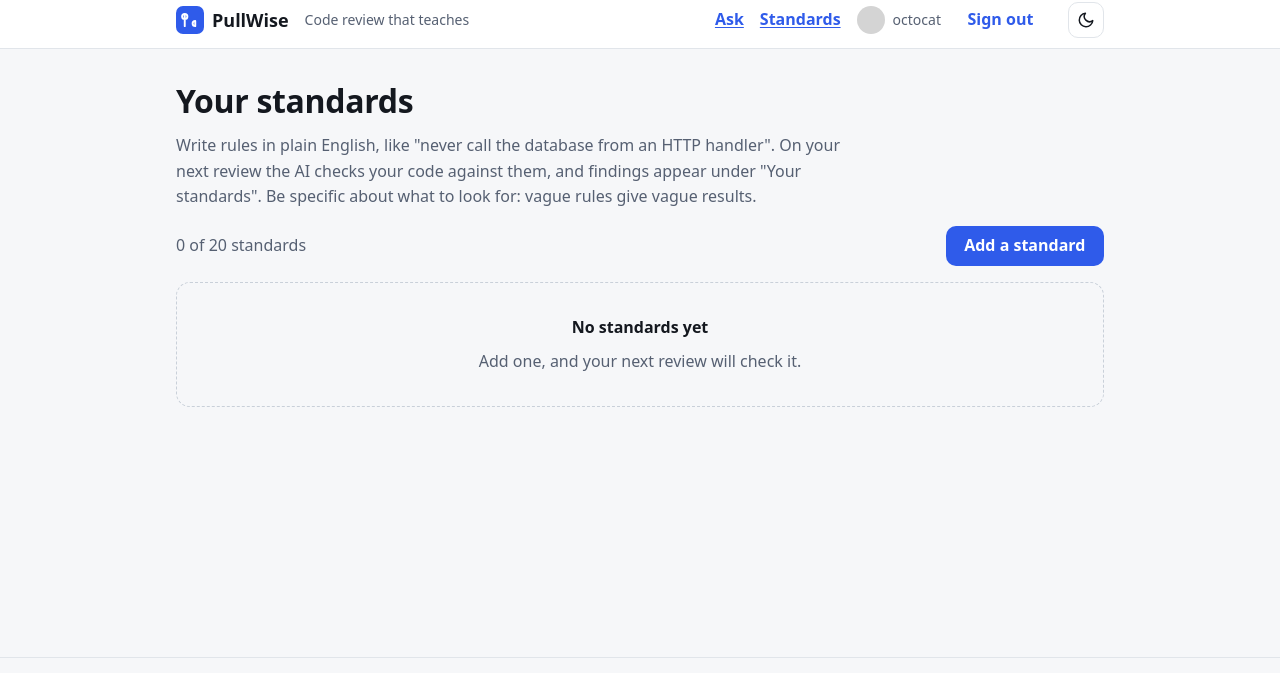
Scenario: Standards page › starts empty and adds a standard
This screenshot has width=1280, height=673.
Expected: the text "No standards yet" is shown, [572,315,708,341]
Click the button "Add a standard" at (1025, 246), box [946,226,1104,266]
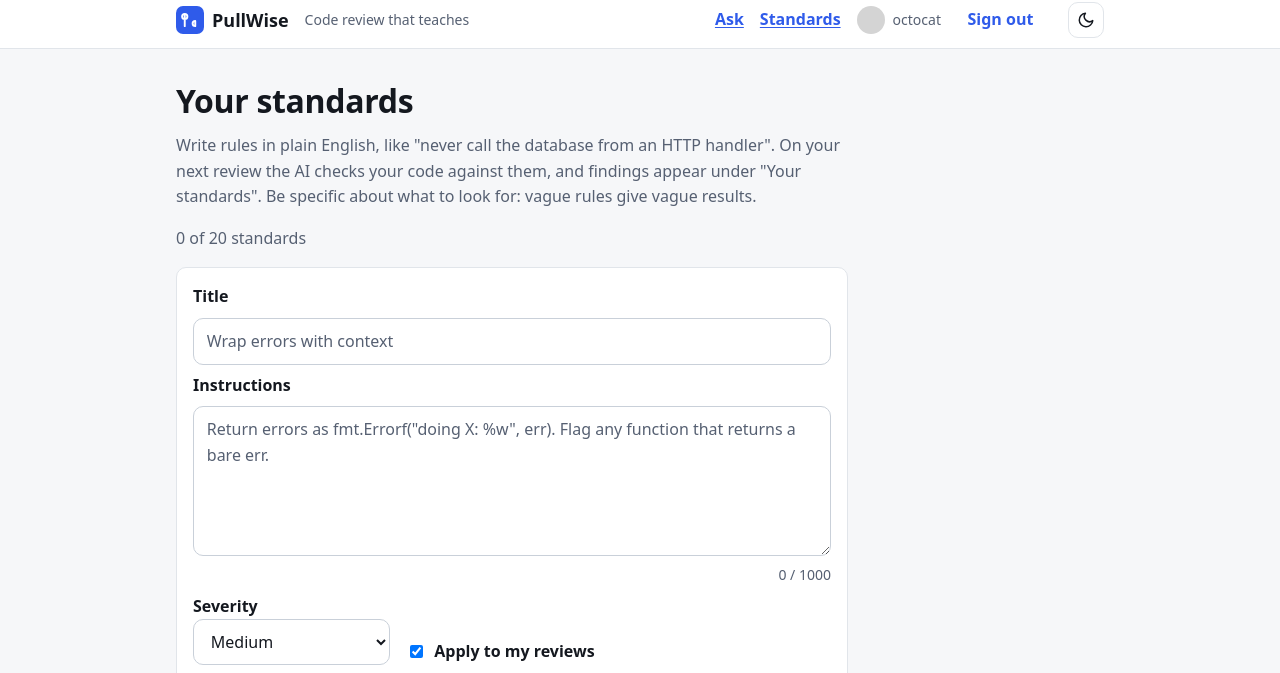
Type "Wrap errors" into the field labelled "Title" at (512, 341), box [193,318,831,365]
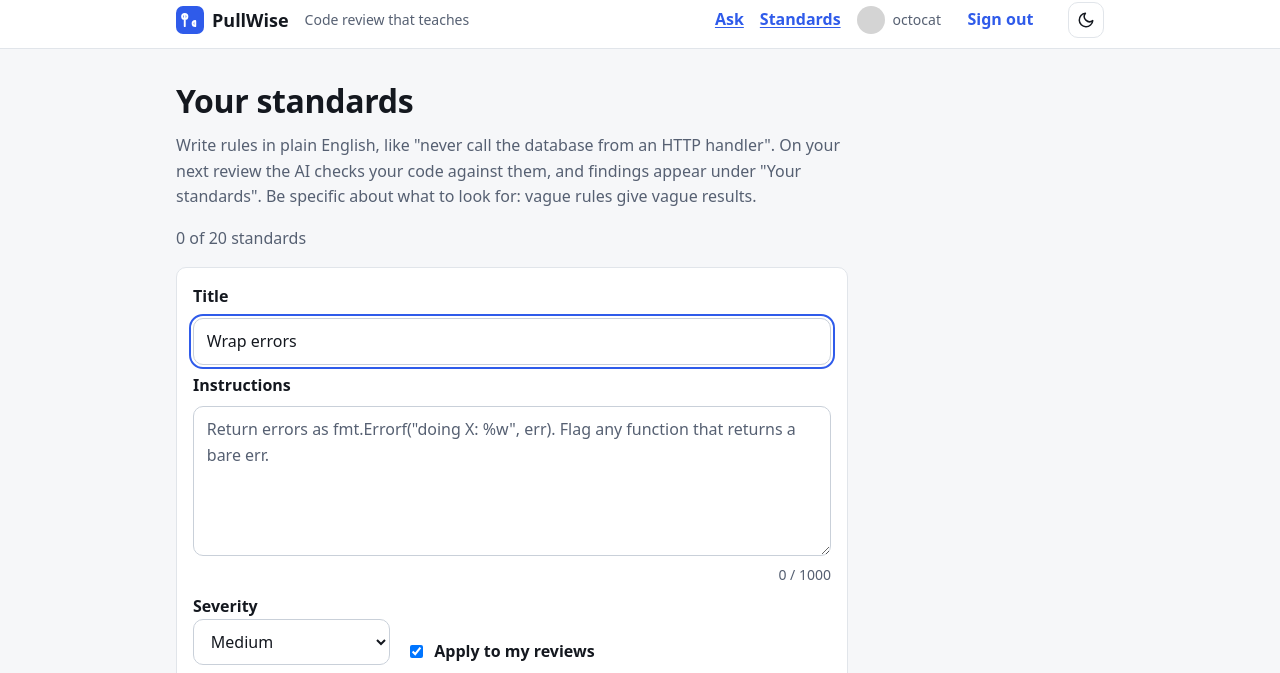
Type "Return errors with fmt.Errorf and %w." into the text box labelled "Instructions" at (512, 481), box [193,406,831,556]
(page scrolled)
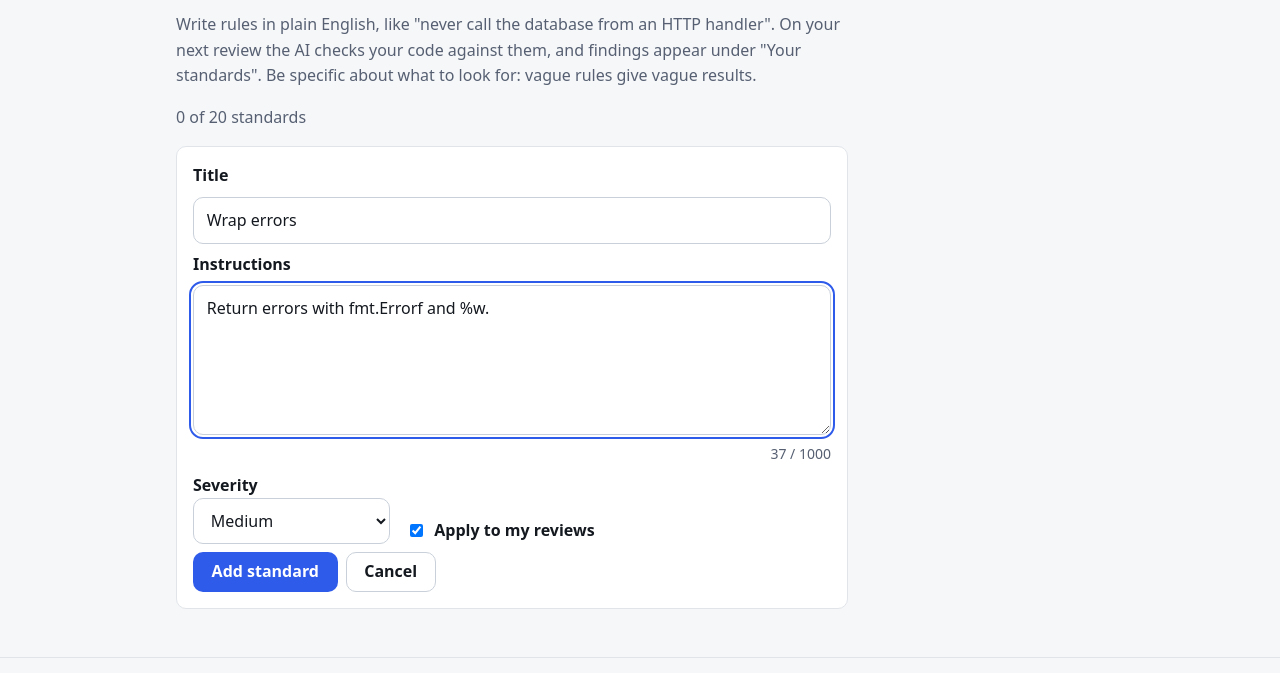
Click the button "Add standard" at (265, 572), box [193,552,338,592]
(page scrolled)
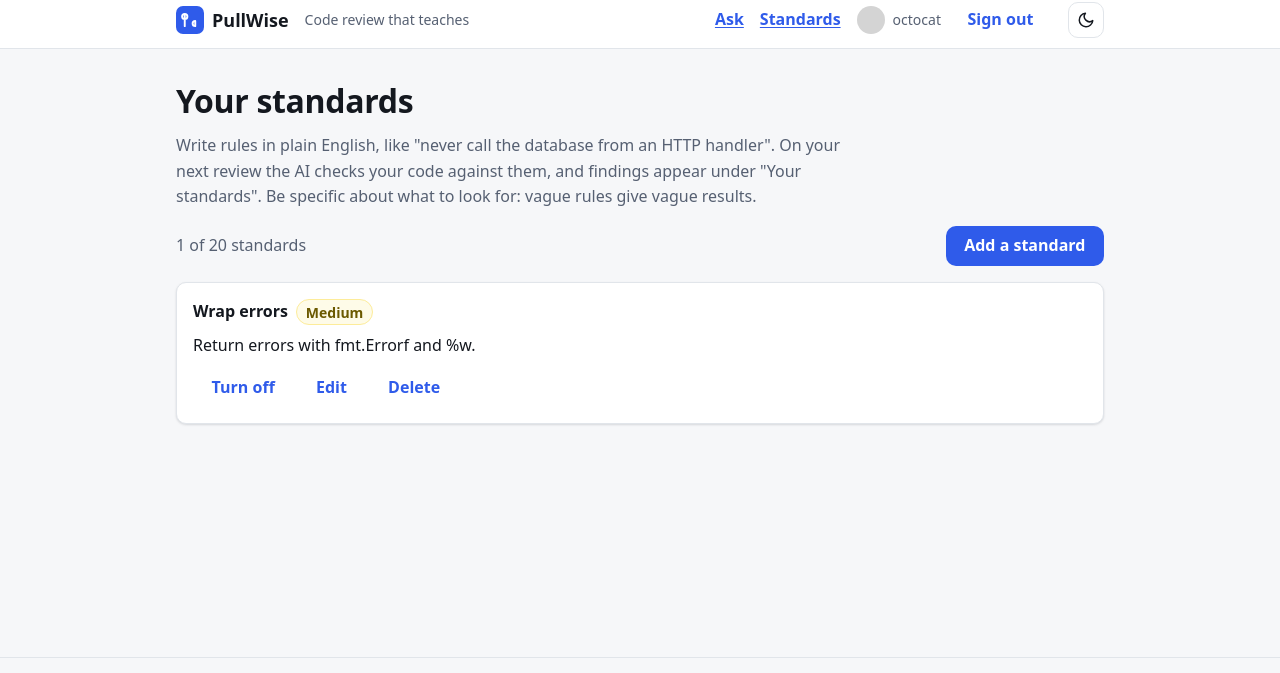
Now the text "Wrap errors" is shown, box [193,300,288,325]
Now the text "Return errors with fmt.Errorf and %w." is shown, box [193,334,476,356]
Now the text "1 of 20 standards" is shown, box [176,233,306,259]
